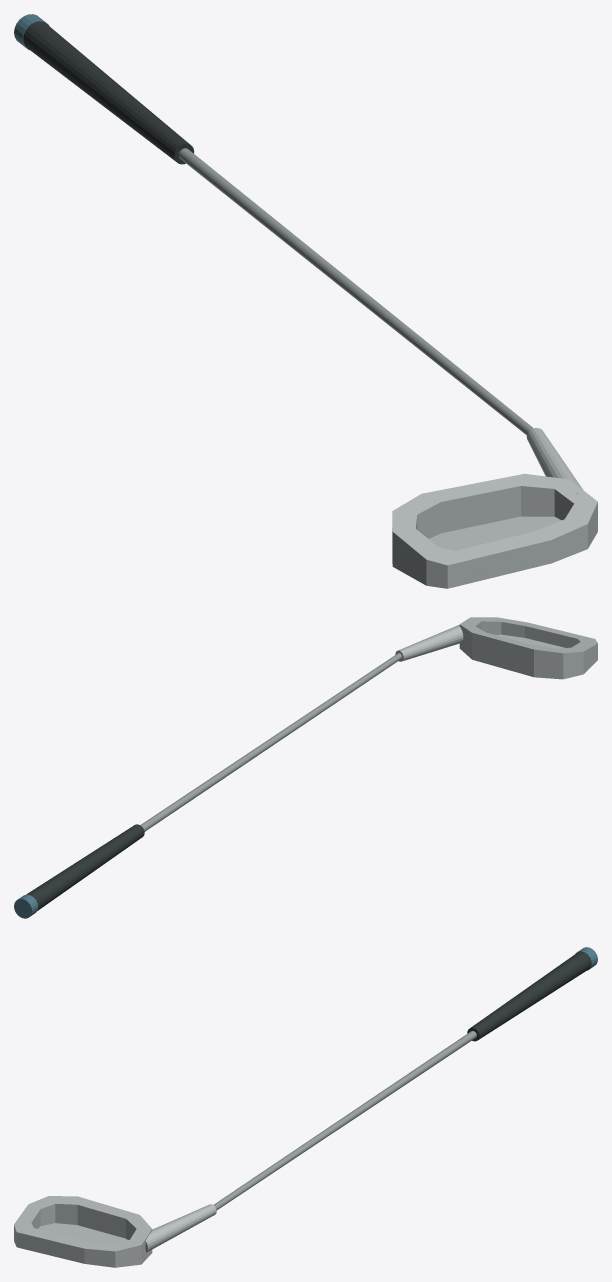
3 views of the same model, one above another, from view 1: azimuth 30°, elevation 25°; view 2: azimuth 150°, elevation 25°; view 3: azimuth 330°, elevation 25° (orthographic). The views are drawn at different scales.
Parts seen in each view (by area): view 1: WholeGroundFootOffsetIronHeadWithBlindCavity, WholeLongTaperedGrip, WholeLongTaperedShaft, WholeObliqueHeelHosel; view 2: WholeGroundFootOffsetIronHeadWithBlindCavity, WholeLongTaperedShaft, WholeLongTaperedGrip, WholeObliqueHeelHosel, WholeGripEndCap; view 3: WholeGroundFootOffsetIronHeadWithBlindCavity, WholeLongTaperedGrip, WholeLongTaperedShaft, WholeObliqueHeelHosel.
Part boxes in pixels (bbox=[...]): WholeGroundFootOffsetIronHeadWithBlindCavity: bbox=[392, 473, 597, 588]; WholeLongTaperedGrip: bbox=[23, 21, 194, 164]; WholeLongTaperedShaft: bbox=[178, 148, 533, 435]; WholeObliqueHeelHosel: bbox=[526, 428, 582, 494]; WholeGroundFootOffsetIronHeadWithBlindCavity: bbox=[459, 617, 597, 679]; WholeLongTaperedShaft: bbox=[140, 653, 401, 831]; WholeLongTaperedGrip: bbox=[26, 824, 144, 910]; WholeObliqueHeelHosel: bbox=[395, 621, 471, 661]; WholeGripEndCap: bbox=[14, 894, 38, 918]; WholeGroundFootOffsetIronHeadWithBlindCavity: bbox=[14, 1196, 152, 1267]; WholeLongTaperedGrip: bbox=[467, 952, 591, 1041]; WholeLongTaperedShaft: bbox=[213, 1031, 476, 1210]; WholeObliqueHeelHosel: bbox=[140, 1204, 216, 1252].
Size of the model in its own units: 0.2709 by 0.042 by 1.16.
